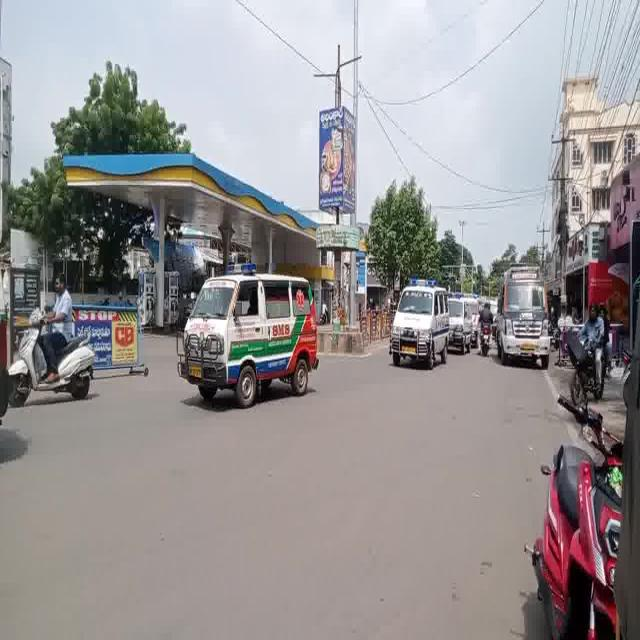ambulance: (175, 255, 329, 419), (382, 270, 446, 364), (504, 258, 550, 376), (452, 282, 479, 371)
